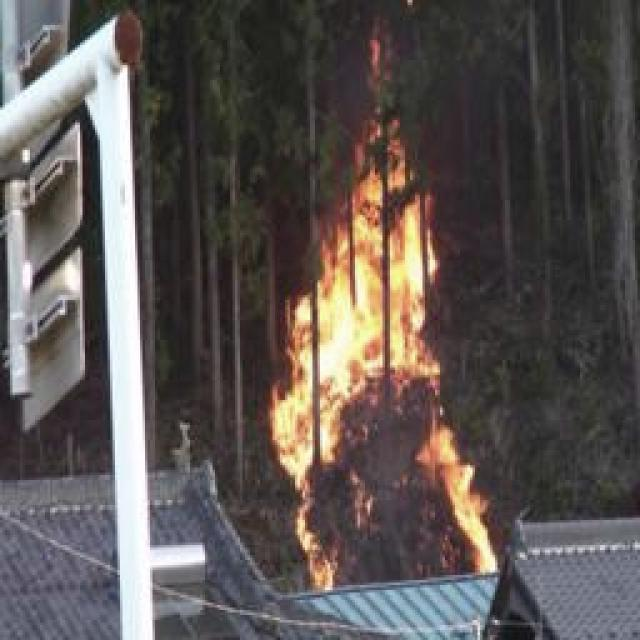Fire: (271, 124, 496, 563)
